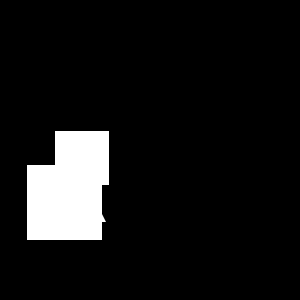circle: (27, 165, 102, 240), (55, 131, 109, 185)
triangle: (69, 185, 106, 222)
